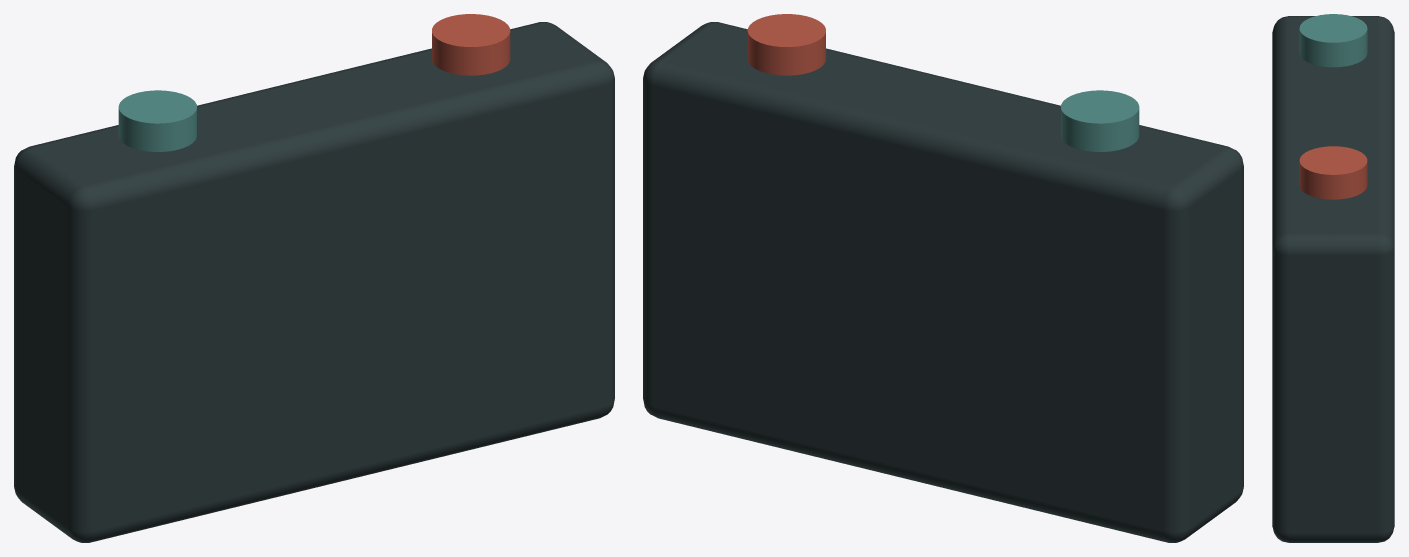
Rendered from timer.glb.
The picture shows the model from 3 angles, left to right: view 1: azimuth 30°, elevation 25°; view 2: azimuth 150°, elevation 25°; view 3: azimuth 270°, elevation 25°; orthographic projection. The views are drawn at different scales.
Visible parts, largest first — view 1: timer; view 2: timer; view 3: timer.
Part boxes in pixels (x1,y1,x2,y2): timer: (14,14,614,542); timer: (643,14,1243,542); timer: (1272,14,1394,542).
Bounding box in the file's own units: 0.8 × 0.55 × 0.18.
